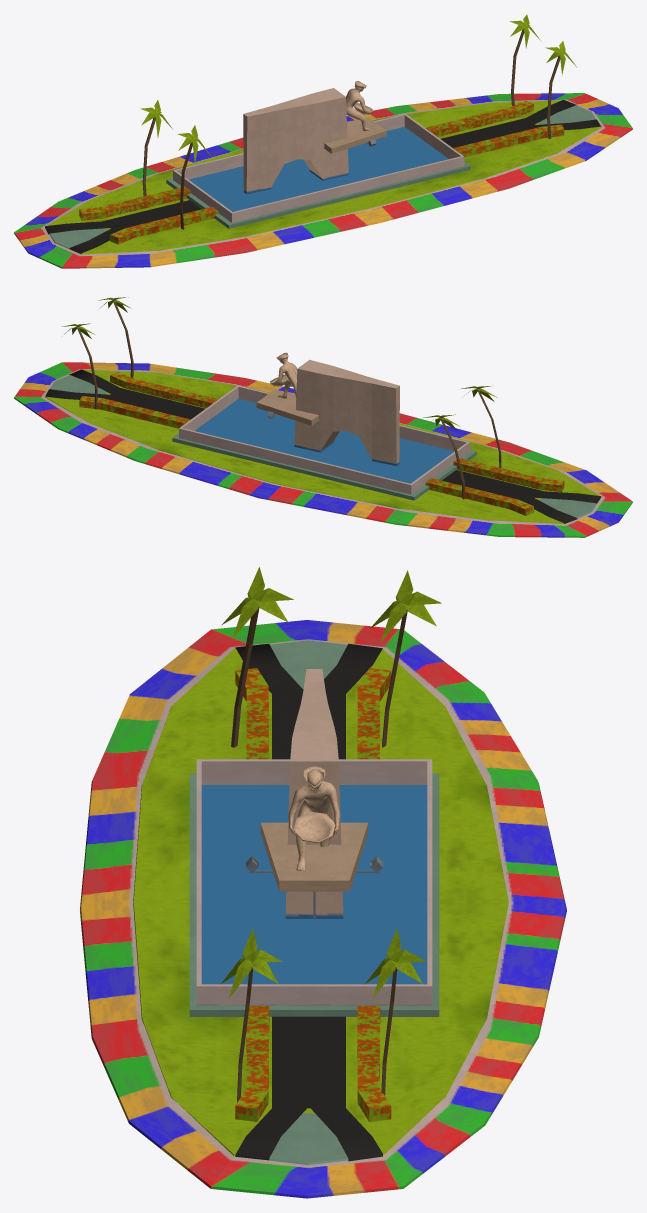
File: garimpeiroLOD1.fbx
3 renders of one model, top to bottom at view 1: azimuth 30°, elevation 25°; view 2: azimuth 150°, elevation 25°; view 3: azimuth 270°, elevation 25°, orthographic. The views are drawn at different scales.
Parts seen in each view (by area): view 1: GarimpeiroLOD1; view 2: GarimpeiroLOD1; view 3: GarimpeiroLOD1.
Boxes of the visible parts, x1,y1,x2,y2 form: GarimpeiroLOD1: [14, 14, 632, 268]; GarimpeiroLOD1: [14, 297, 632, 537]; GarimpeiroLOD1: [80, 567, 566, 1198].
Bounding box in the file's own units: 3240 × 507 × 1158.
